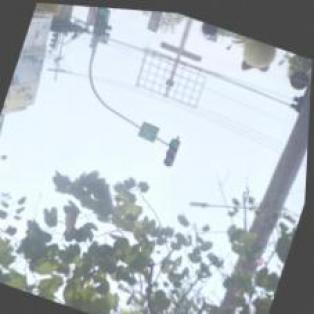Semaforo Verde: (90, 5, 111, 36), (162, 134, 181, 165)
